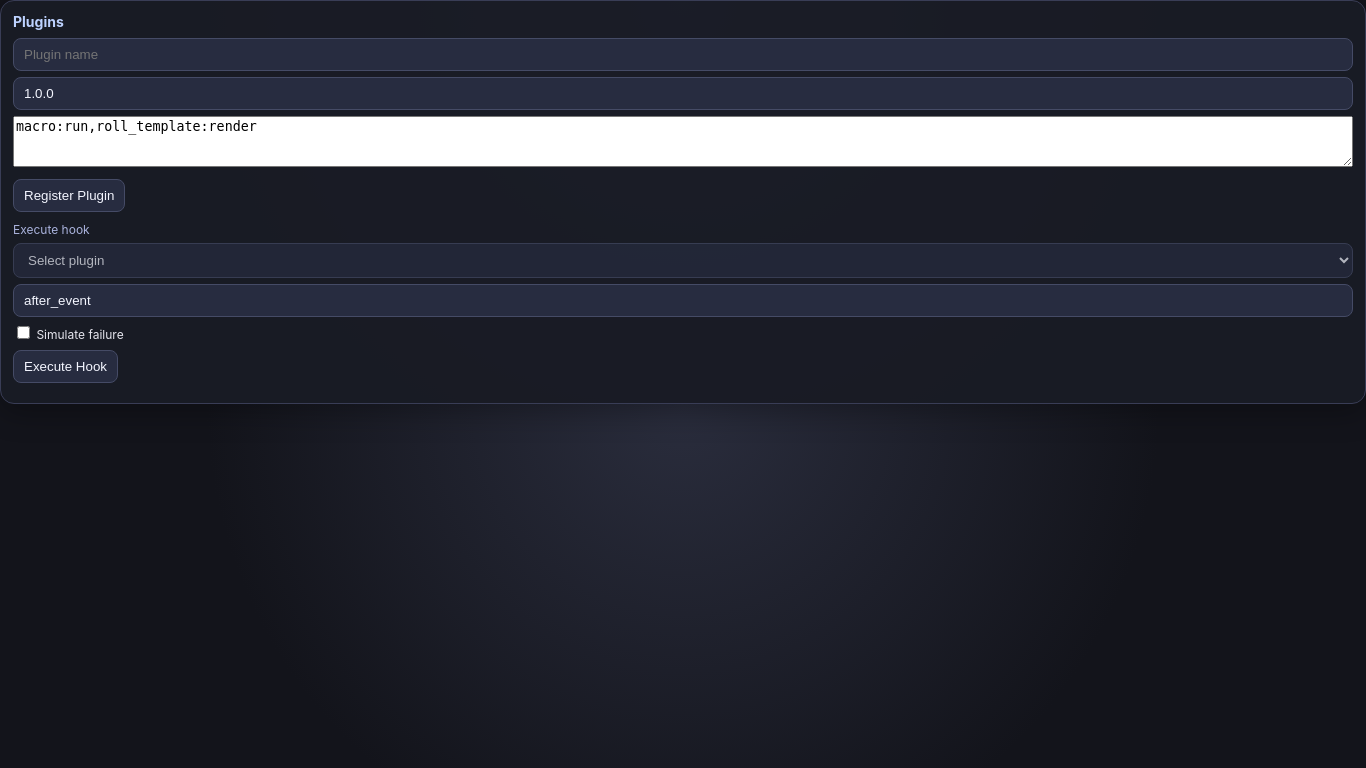
Test case: Phase 4 panels › shows backend failure feedback when plugin register fails
Type "Hooks" into the field with placeholder "Plugin name" at (683, 54), box x1=13 y1=38 x2=1353 y2=71
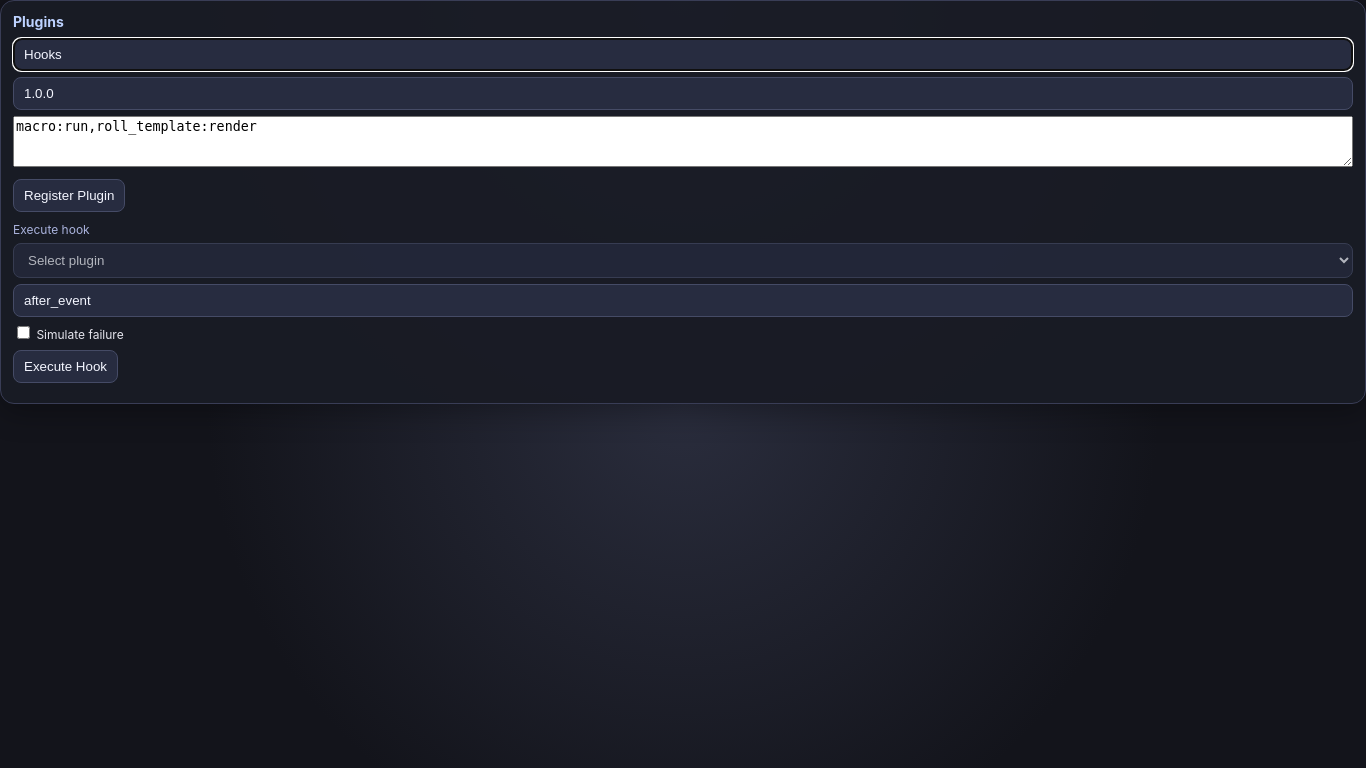
Click the button "Register Plugin" at (69, 196), box x1=13 y1=179 x2=125 y2=212
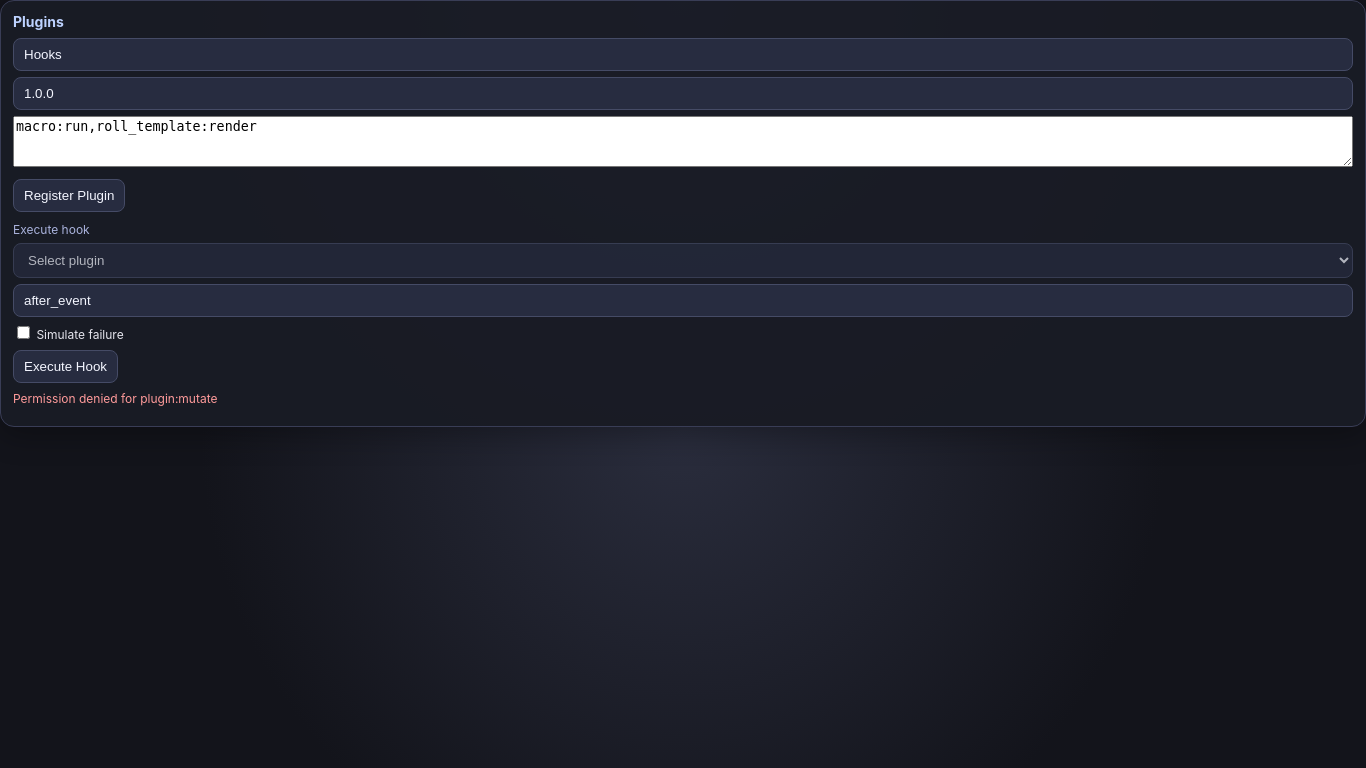
Expected: the text "Permission denied for plugin:mutate" is shown, x1=13 y1=391 x2=218 y2=406
